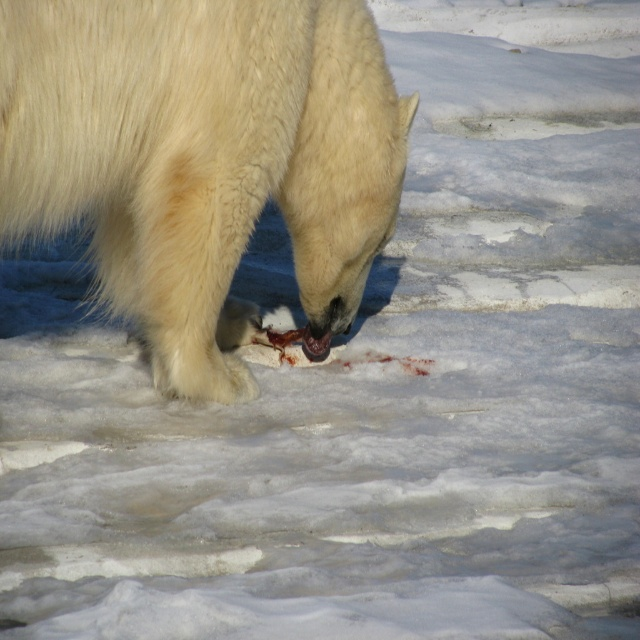Polar bear: (0, 0, 421, 410)
